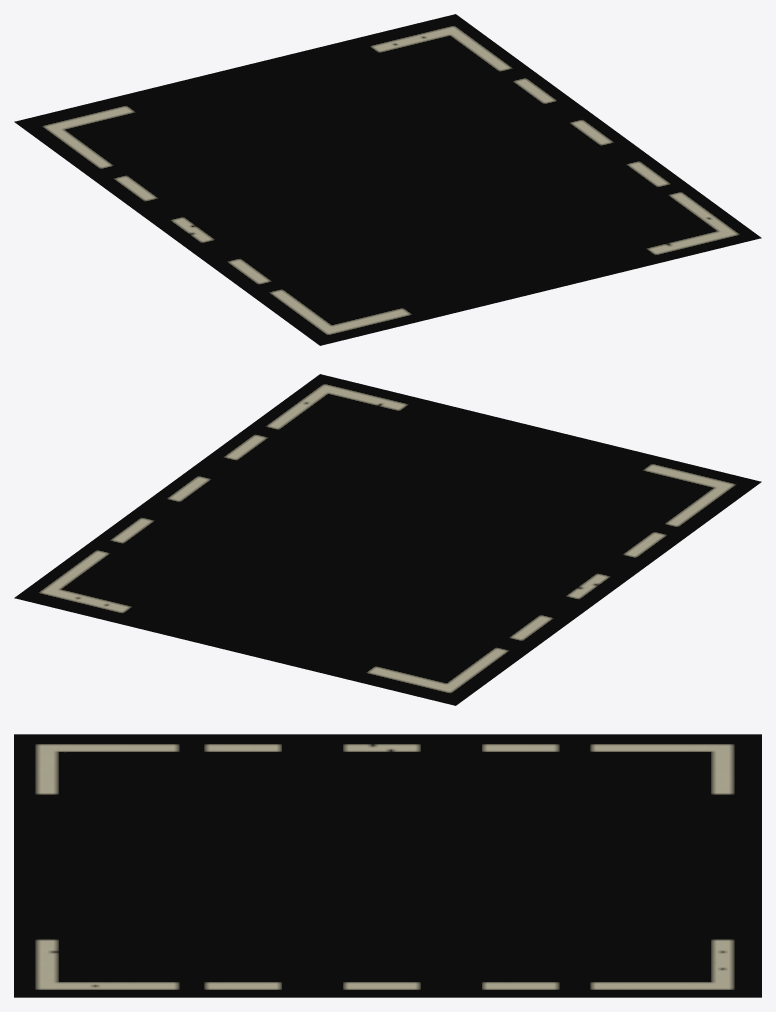
The model's file is ParkingDecal.fbx.
The picture shows the model from 3 angles, top to bottom: view 1: azimuth 30°, elevation 25°; view 2: azimuth 150°, elevation 25°; view 3: azimuth 270°, elevation 25°; orthographic projection. The views are drawn at different scales.
Parts seen in each view (by area): view 1: ParkingDecal; view 2: ParkingDecal; view 3: ParkingDecal.
Boxes of the visible parts, x1,y1,x2,y2 form: ParkingDecal: (14, 14, 761, 345); ParkingDecal: (14, 374, 761, 705); ParkingDecal: (14, 734, 761, 997).
Bounding box in the file's own units: 1000 × 0 × 1200.
